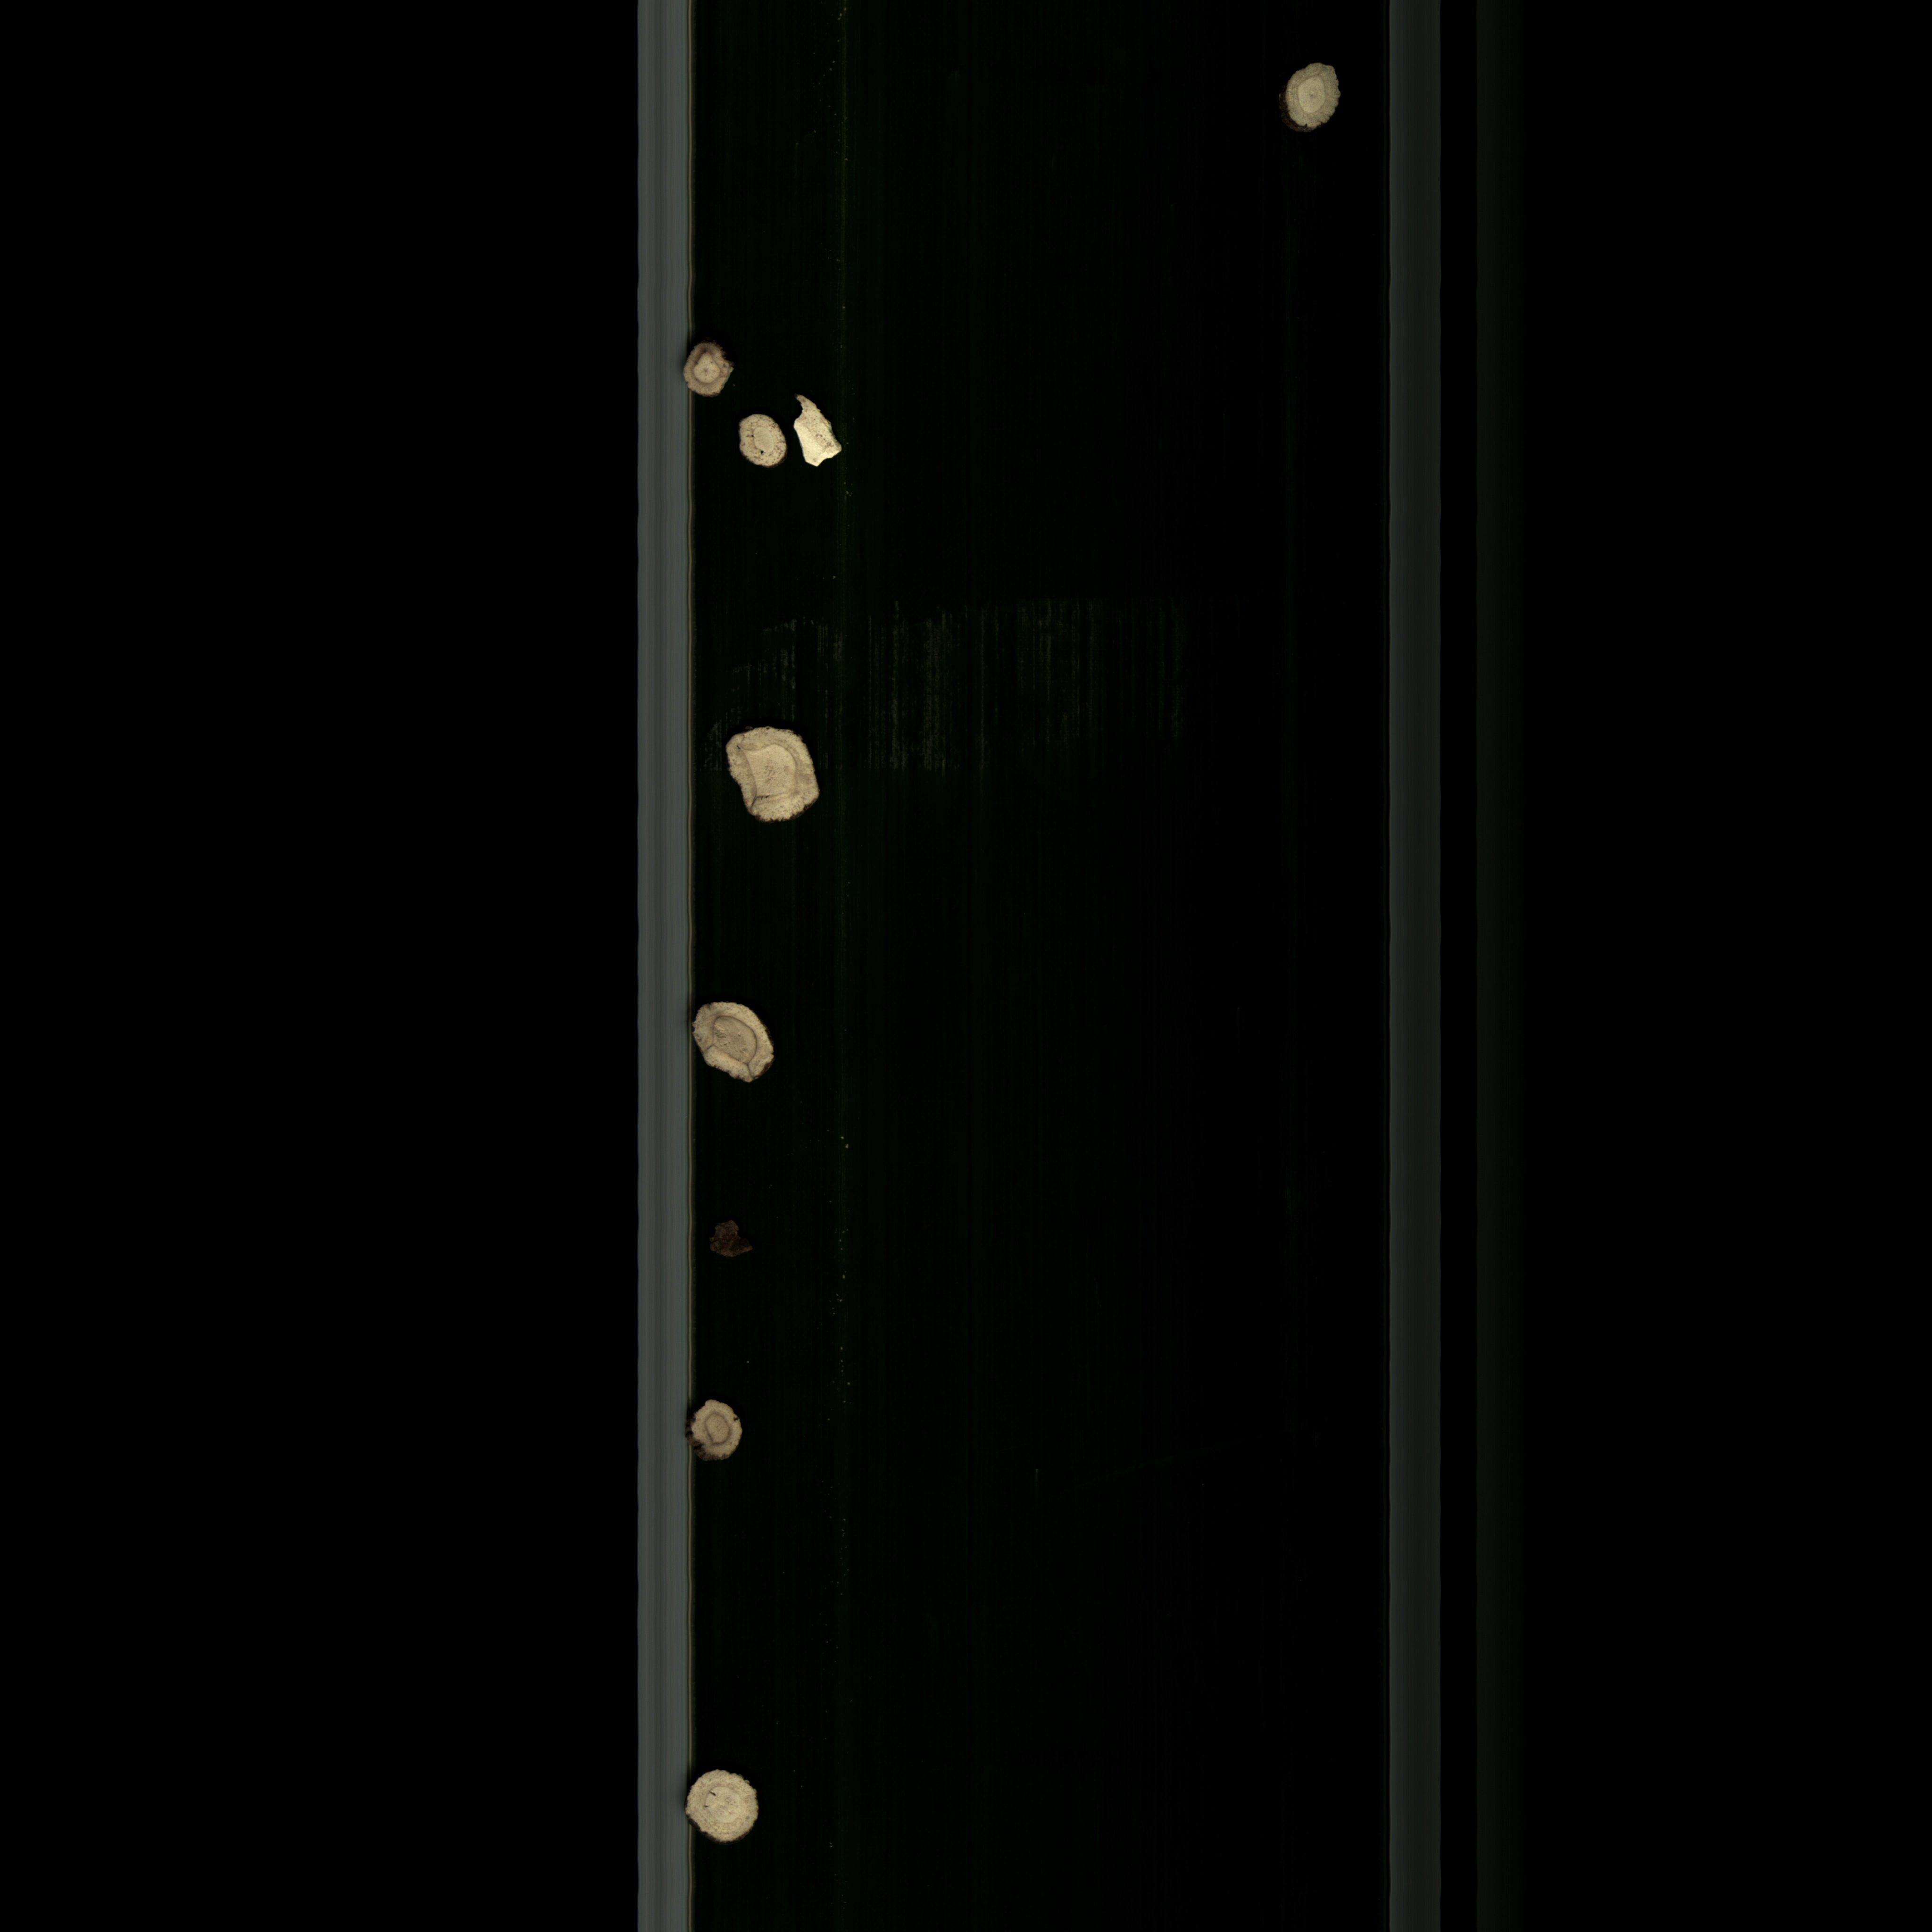bark: (692, 1217, 761, 1263)
distortion: (718, 720, 840, 842)
dreg: (784, 387, 865, 487)
hole: (678, 1755, 770, 1858)
moldy: (686, 998, 787, 1102), (685, 1385, 747, 1483), (678, 336, 754, 410)
